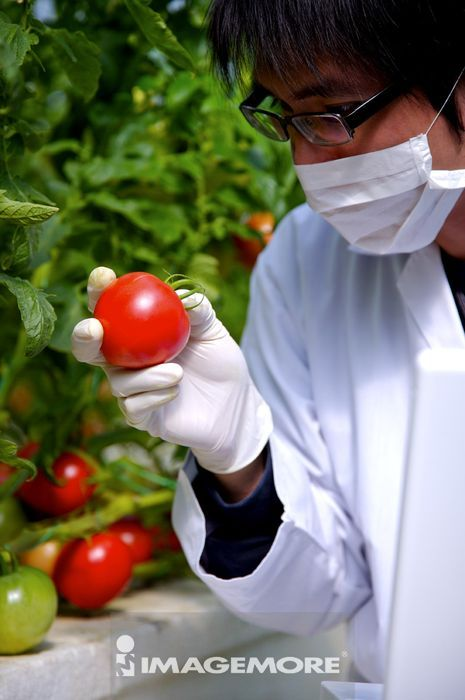mask: (293, 134, 465, 256)
